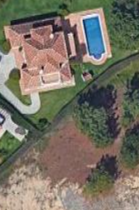pool: (80, 17, 107, 57)
